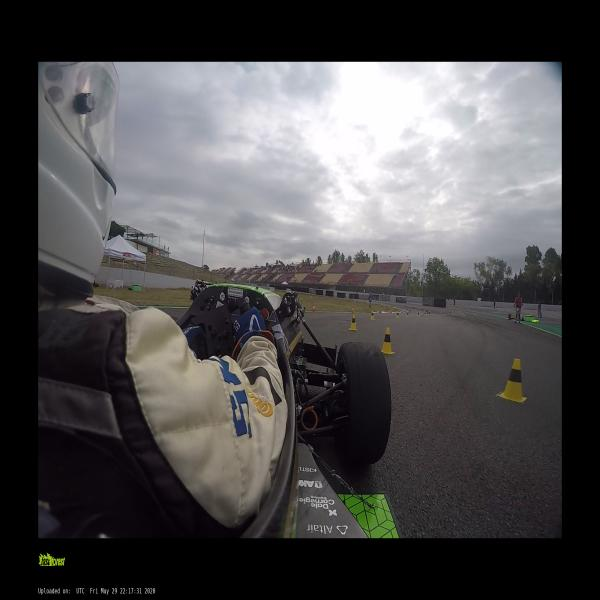orange_cone: (312, 305, 315, 313), (350, 307, 354, 313), (379, 308, 381, 314), (390, 309, 392, 314)
yellow_cone: (498, 358, 527, 403), (378, 327, 395, 355), (348, 313, 357, 332), (350, 311, 357, 324), (370, 311, 374, 320), (416, 311, 420, 316), (406, 311, 409, 317), (396, 312, 399, 318)
